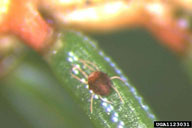Mites: (68, 60, 129, 114)
